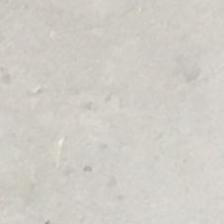Non_Crack: (1, 29, 196, 214)
